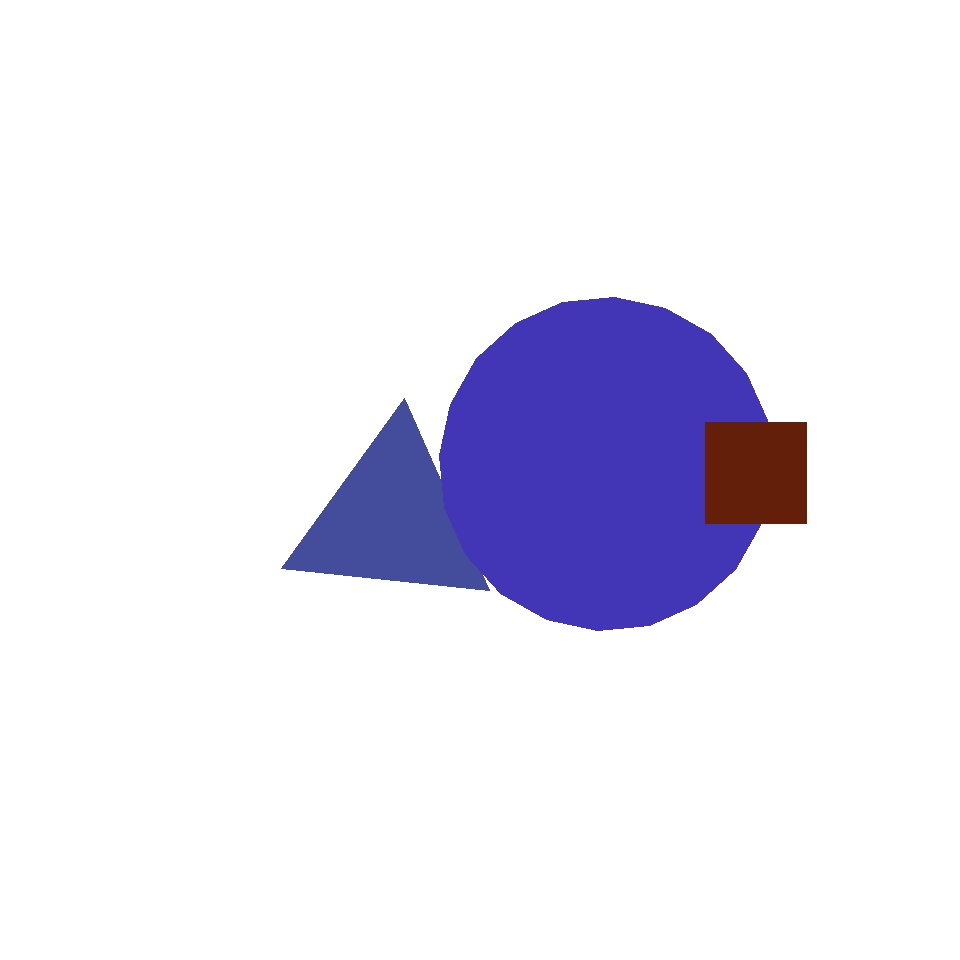circle: (458, 72, 736, 384), (288, 423, 496, 615), (252, 480, 352, 582), (452, 218, 548, 302)
square: (388, 518, 592, 722), (706, 422, 806, 524), (640, 430, 740, 530)
triangle: (320, 514, 692, 886), (439, 298, 772, 630)
